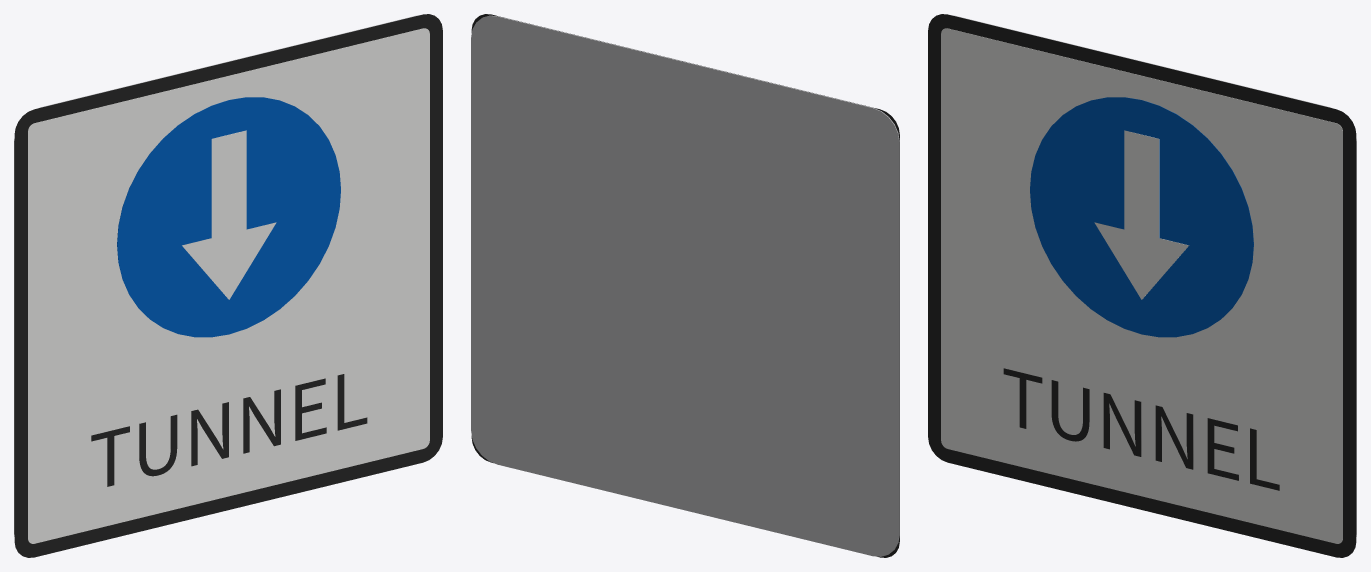
The picture shows the model from 3 angles, left to right: view 1: azimuth 30°, elevation 25°; view 2: azimuth 150°, elevation 25°; view 3: azimuth 330°, elevation 25°; orthographic projection.
Parts seen in each view (by area): view 1: C117-B21e_r01, C117-B21e_d02, C117-B21e_r00, C117-B21e_p03, C117-B21e_txt04, C117-B21e_dos; view 2: C117-B21e_dos, C117-B21e_r00; view 3: C117-B21e_r01, C117-B21e_d02, C117-B21e_r00, C117-B21e_p03, C117-B21e_txt04, C117-B21e_dos.
Boxes of the visible parts, x1,y1,x2,y2 form: C117-B21e_r01: (28,28,429,543); C117-B21e_d02: (117,97,340,337); C117-B21e_r00: (14,14,442,557); C117-B21e_p03: (182,130,276,299); C117-B21e_txt04: (91,374,367,486); C117-B21e_dos: (14,15,416,536); C117-B21e_dos: (471,15,899,556); C117-B21e_r00: (471,14,899,557); C117-B21e_r01: (941,28,1342,543); C117-B21e_d02: (1030,97,1253,337); C117-B21e_r00: (928,14,1356,557); C117-B21e_p03: (1094,130,1188,299); C117-B21e_txt04: (1003,368,1279,490); C117-B21e_dos: (954,15,1356,536).
Bounding box in the file's own units: 0.65 × 0.65 × 0.0033.
